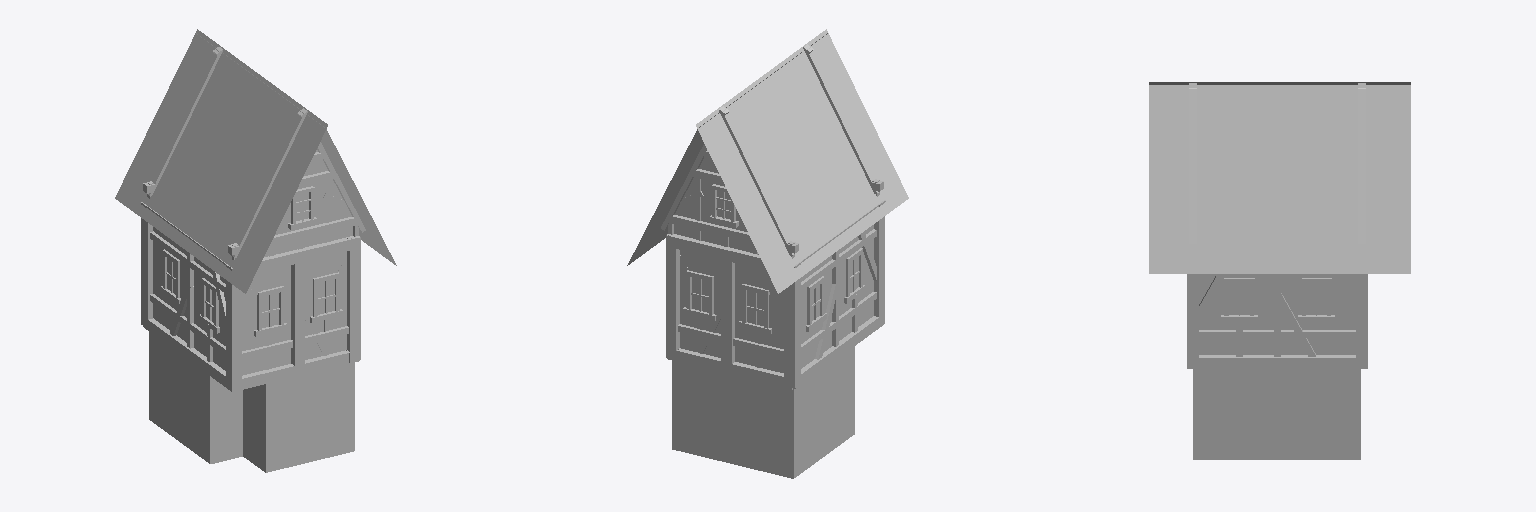
The model's file is haus02Handarbeit.obj.
3 renders of one model, left to right at view 1: azimuth 30°, elevation 25°; view 2: azimuth 150°, elevation 25°; view 3: azimuth 270°, elevation 25°, orthographic.
Visible parts, largest first — view 1: Plane.030, Cube.064, Plane.012, Plane.031, Cube, Cube.001, Plane.002, Cube.002, Cube.043, Cube.004, Cube.003, Plane.005 (+13 smaller); view 2: Plane.030, Cube.064, Plane.022, Plane.031, Cube.066, Cube.067, Cube.069, Plane.002, Cube.068, Cube.043, Plane.021, Cube.065 (+12 smaller); view 3: Plane.031, Cube.064, Plane.027, Plane.026, Cube.108, Cube.008, Cube.073, Cube.111, Cube.002, Cube.067, Plane.030, Plane.028 (+1 smaller).
Part boxes in pixels (x1,y1,x2,y2): Plane.030: (115, 29, 327, 293); Cube.064: (149, 332, 354, 472); Plane.012: (242, 252, 346, 350); Plane.031: (196, 33, 396, 265); Cube: (226, 280, 241, 389); Cube.001: (291, 254, 304, 373); Plane.002: (153, 241, 225, 345); Cube.002: (347, 246, 360, 359); Cube.043: (143, 316, 242, 391); Cube.004: (235, 350, 358, 391); Cube.003: (226, 236, 360, 273); Plane.005: (242, 335, 346, 375); Plane.030: (696, 29, 908, 293); Cube.064: (672, 346, 854, 478); Plane.022: (680, 250, 783, 348); Plane.031: (627, 33, 827, 265); Cube.066: (721, 260, 734, 372); Cube.067: (666, 246, 679, 359); Cube.069: (667, 348, 792, 389); Plane.002: (801, 239, 873, 343); Cube.068: (666, 234, 800, 270); Cube.043: (795, 314, 884, 388); Plane.021: (680, 333, 783, 372); Cube.065: (784, 282, 800, 388); Plane.031: (1149, 85, 1410, 273); Cube.064: (1193, 369, 1360, 459); Plane.027: (1199, 276, 1355, 329); Plane.026: (1199, 338, 1355, 354); Cube.108: (1199, 355, 1355, 368); Cube.008: (1189, 83, 1196, 243); Cube.073: (1358, 83, 1365, 243); Cube.111: (1199, 330, 1355, 337); Cube.002: (1187, 274, 1198, 368); Cube.067: (1356, 274, 1367, 368); Plane.030: (1149, 82, 1410, 84); Plane.028: (1306, 283, 1326, 314).
Bounding box in the file's own units: 6.49 × 14.51 × 9.72.